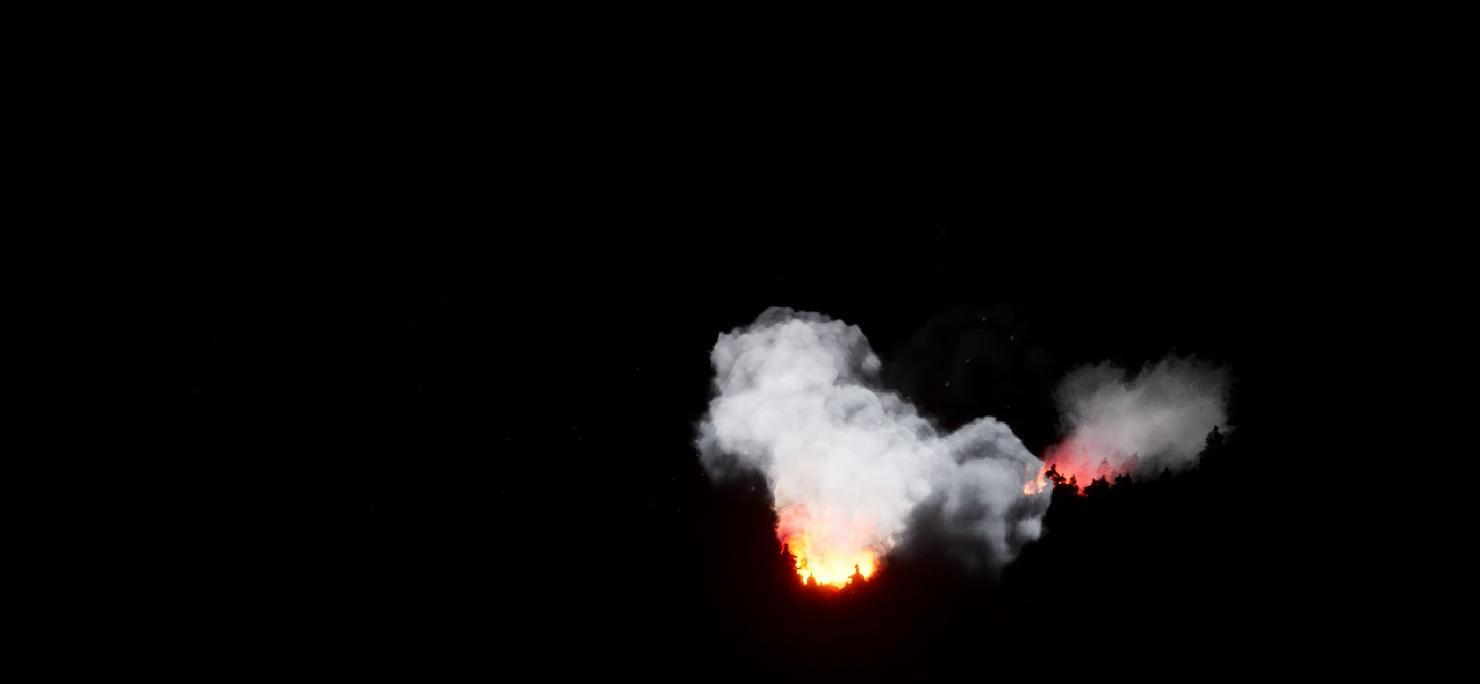fire: (778, 509, 891, 588), (1027, 445, 1109, 499)
smoke: (696, 306, 1058, 570), (1071, 352, 1222, 486)
